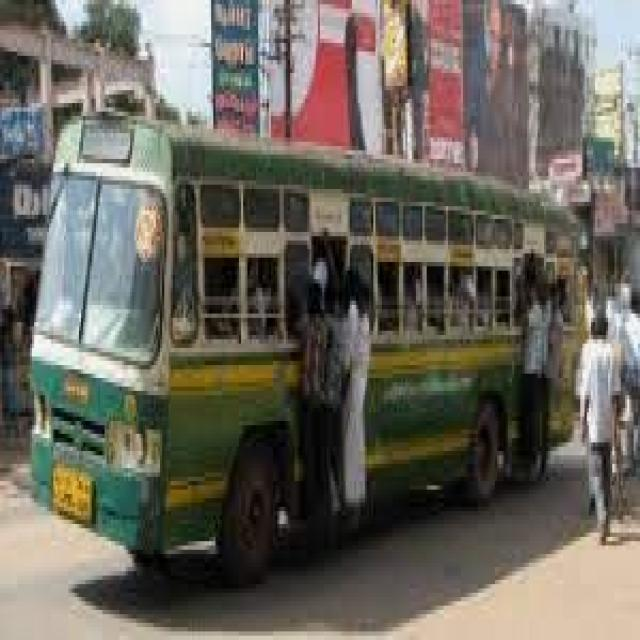bus: (30, 113, 578, 559)
